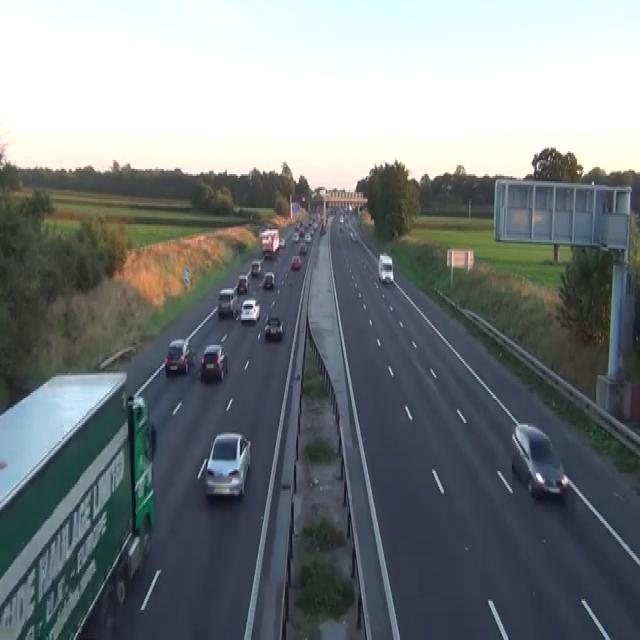Car: (510, 423, 568, 501), (204, 432, 251, 498), (164, 338, 195, 375), (200, 343, 228, 381), (264, 314, 284, 340), (377, 252, 393, 284), (218, 288, 236, 316), (240, 297, 260, 322), (237, 274, 249, 293), (232, 297, 240, 320), (264, 270, 274, 288), (250, 260, 261, 276), (290, 254, 301, 270), (338, 213, 344, 231), (319, 222, 326, 235), (299, 242, 306, 254), (264, 249, 272, 259), (350, 231, 357, 242), (292, 231, 299, 242), (304, 231, 311, 242), (233, 204, 240, 213), (446, 183, 453, 192), (279, 237, 285, 247), (246, 270, 250, 281), (339, 215, 343, 224)
Truck: (0, 370, 155, 638), (259, 228, 279, 260)
